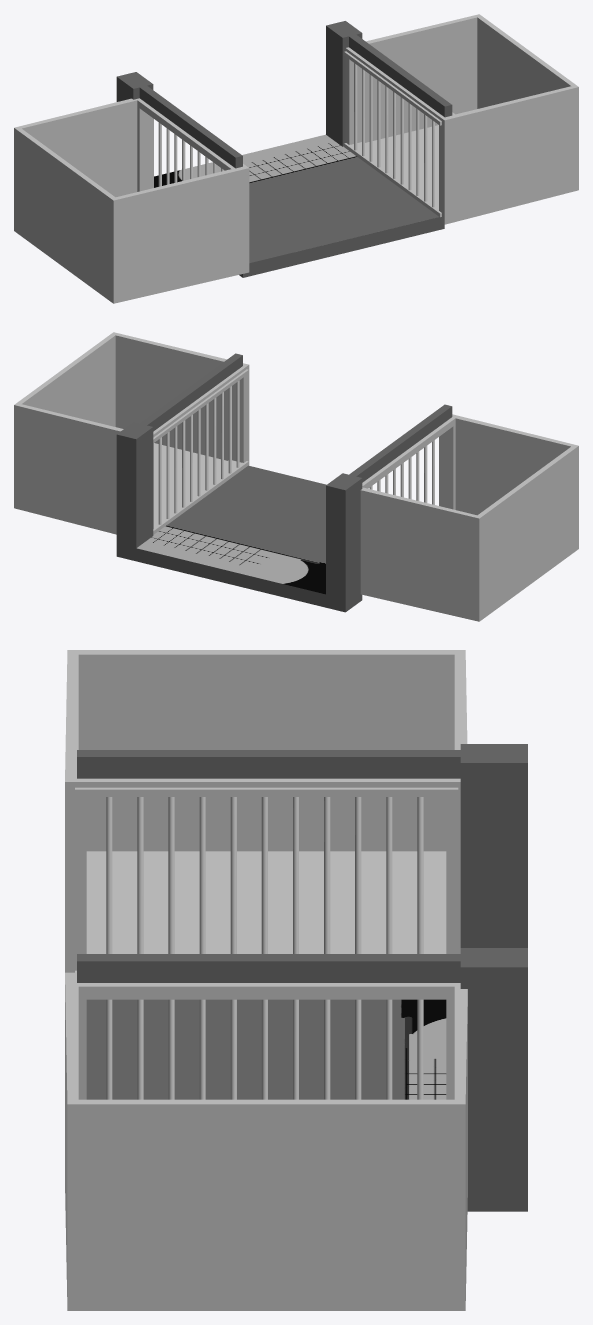
File: SM_Coridor.fbx
The picture shows the model from 3 angles, top to bottom: view 1: azimuth 30°, elevation 25°; view 2: azimuth 150°, elevation 25°; view 3: azimuth 270°, elevation 25°; orthographic projection. The views are drawn at different scales.
Parts seen in each view (by area): view 1: CellBlock.R, CellBlock.L, Coridor, MetalBars, MetalBars.001; view 2: CellBlock.R, Coridor, CellBlock.L, MetalBars, MetalBars.001; view 3: CellBlock.R, CellBlock.L, Coridor, MetalBars.001, MetalBars.
Boxes of the visible parts, x1=… form: CellBlock.R: x1=14, y1=98, x2=249, y2=303; CellBlock.L: x1=344, y1=14, x2=578, y2=224; Coridor: x1=116, y1=21, x2=452, y2=277; MetalBars: x1=354, y1=63, x2=434, y2=207; MetalBars.001: x1=158, y1=122, x2=223, y2=186; CellBlock.R: x1=360, y1=414, x2=578, y2=621; Coridor: x1=116, y1=353, x2=452, y2=612; CellBlock.L: x1=14, y1=332, x2=249, y2=534; MetalBars: x1=158, y1=380, x2=239, y2=524; MetalBars.001: x1=369, y1=440, x2=434, y2=504; CellBlock.R: x1=65, y1=650, x2=467, y2=972; CellBlock.L: x1=65, y1=972, x2=467, y2=1310; Coridor: x1=77, y1=744, x2=527, y2=1211; MetalBars.001: x1=106, y1=797, x2=423, y2=953; MetalBars: x1=106, y1=999, x2=423, y2=1099.
Size of the model in its own units: 2144 by 538 by 924.
